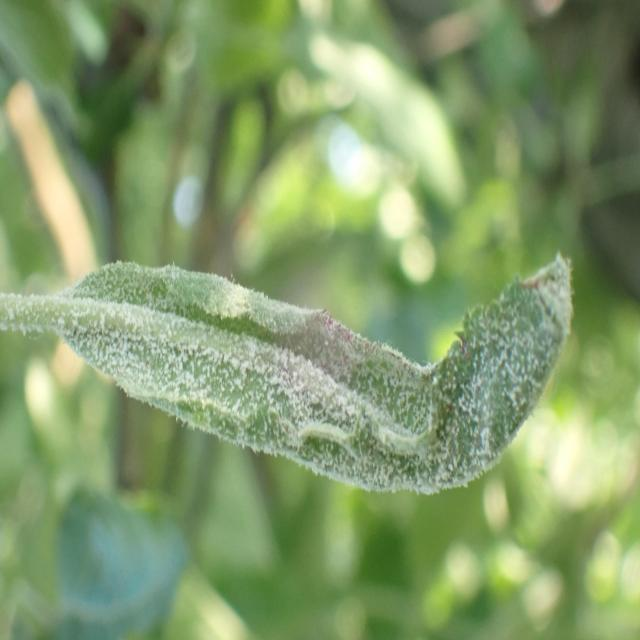Powdery_mildew: (22, 232, 581, 518)
